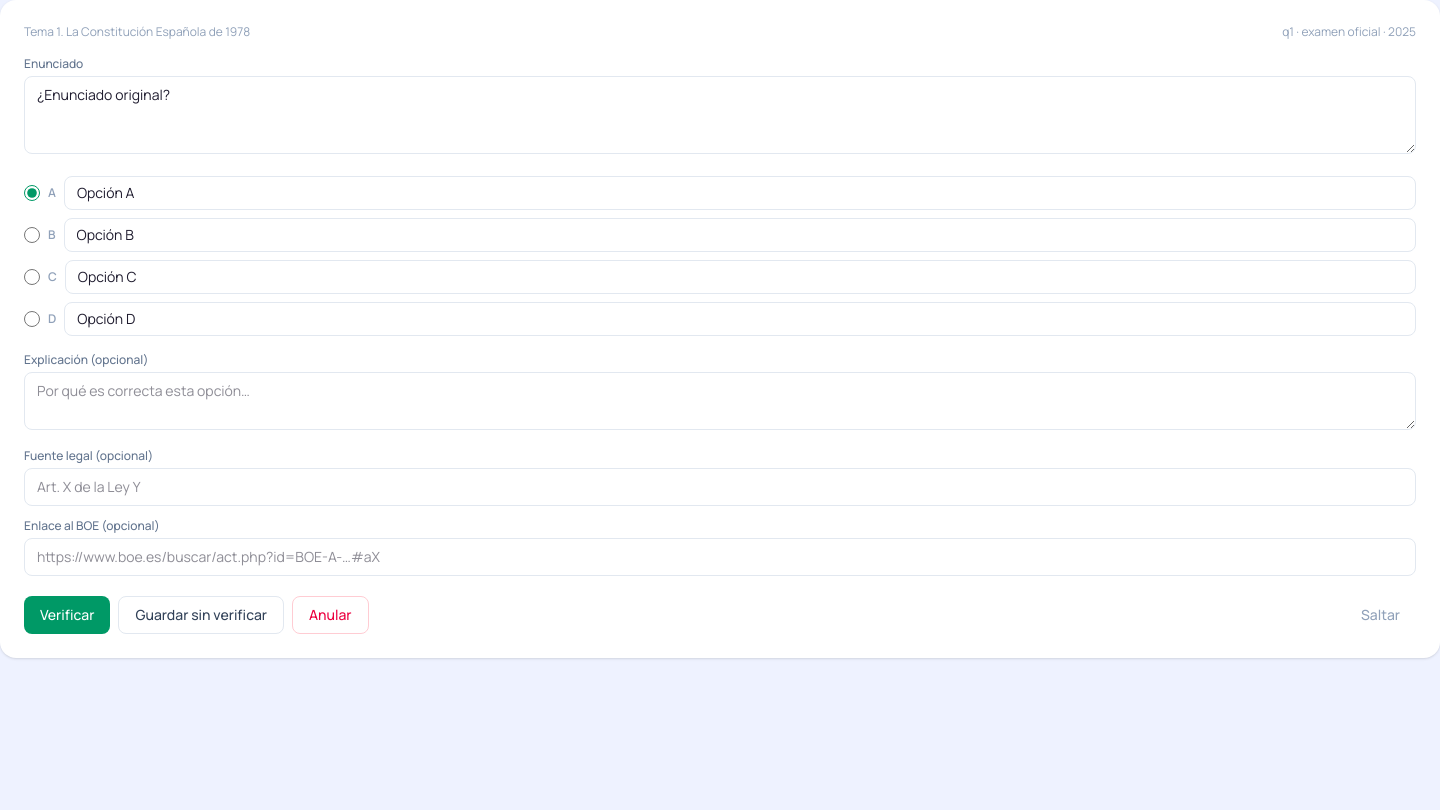
FormularioPreguntaAdmin › muestra un error si el backend rechaza el cambio y no avanza
The width and height of the screenshot is (1440, 810).
Click the button "Guardar sin verificar": coordinates (201, 615) top-left (118, 596), bottom-right (284, 634)
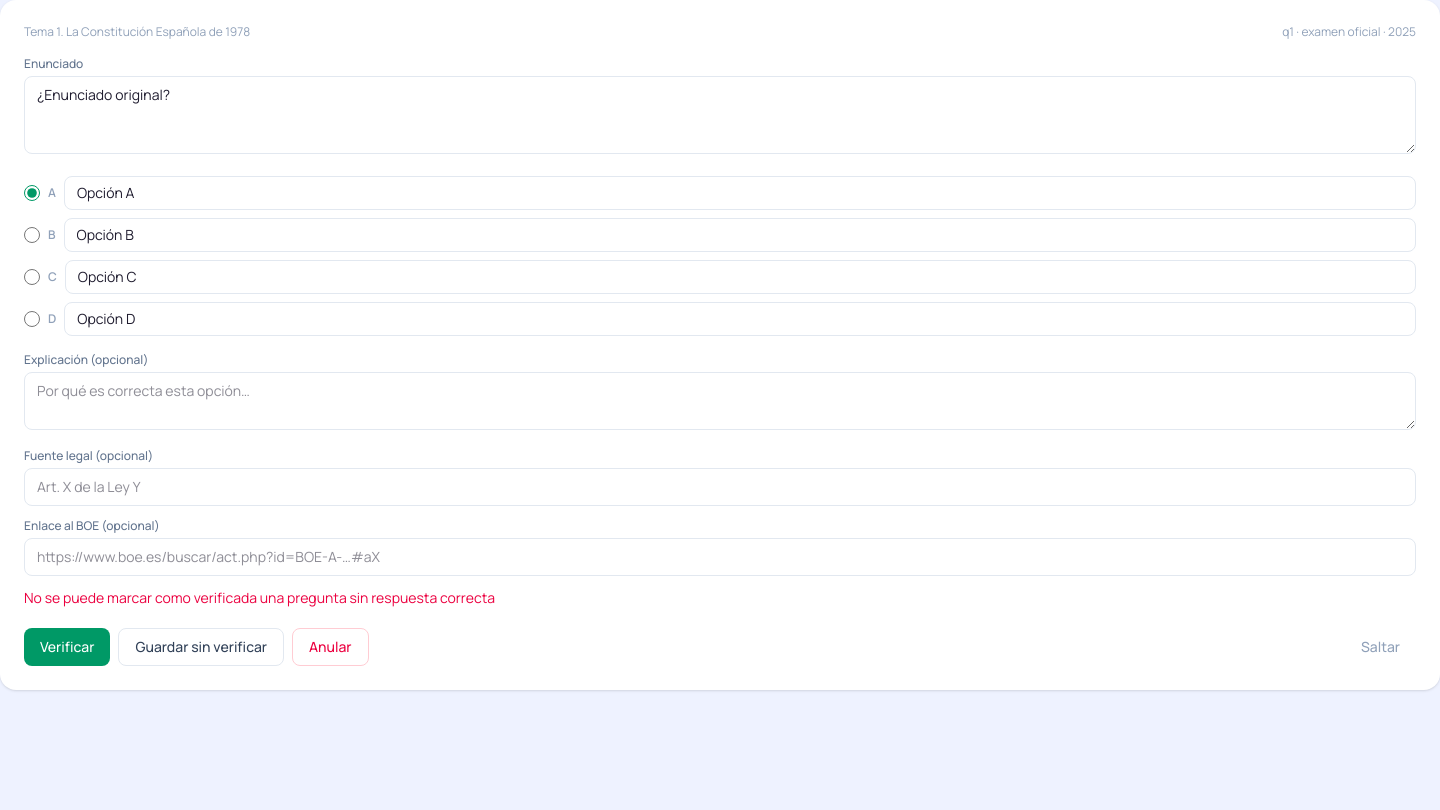
Now the text "No se puede marcar como verificada una pregunta sin respuesta correcta" is shown, box top-left (24, 588), bottom-right (495, 607)
